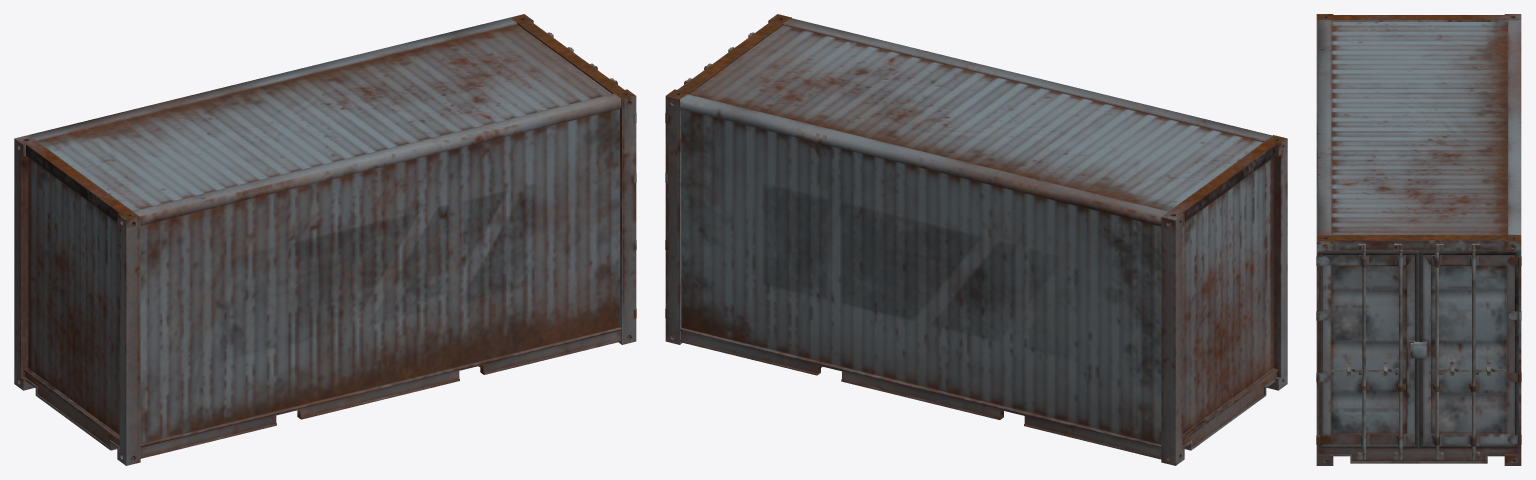
File: container_20_blue.glb
The picture shows the model from 3 angles, left to right: view 1: azimuth 30°, elevation 25°; view 2: azimuth 150°, elevation 25°; view 3: azimuth 270°, elevation 25°; orthographic projection. The views are drawn at different scales.
Visible parts, largest first — view 1: container_20_blue; view 2: container_20_blue; view 3: container_20_blue.
Boxes of the visible parts, bbox=[...] form: container_20_blue: bbox=[14, 14, 636, 465]; container_20_blue: bbox=[665, 14, 1287, 465]; container_20_blue: bbox=[1316, 14, 1521, 465].
Size of the model in its own units: 6.06 by 2.77 by 2.29.
Materials: 1 (1 with a texture image).
